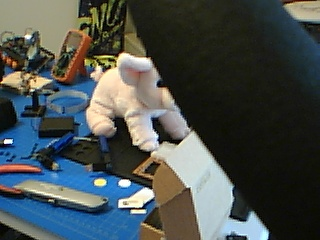piggy: (84, 51, 191, 153)
